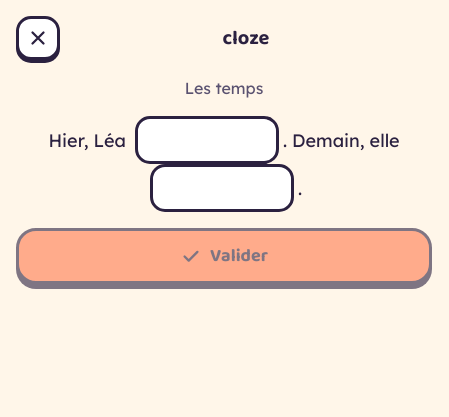
Scenario: GameScreen, cloze › shows the text with a field for each blank, in place, and sends the values once all are filled
The width and height of the screenshot is (449, 417).
Check: the text "Hier, Léa" is shown, box top-left (48, 128), bottom-right (131, 152)
Type "chantait" into the field named "Trou 1".
click(207, 140); type("chantait")  # box top-left (135, 116), bottom-right (279, 164)
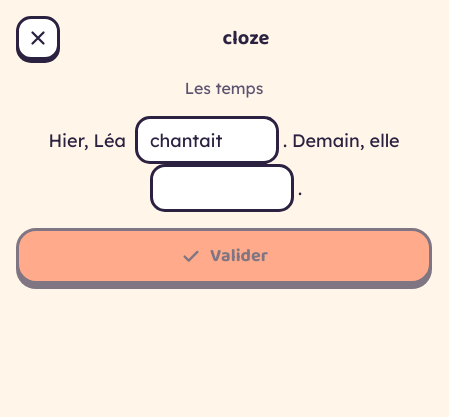
Check: the button "Valider" is disabled, box top-left (16, 228), bottom-right (432, 284)
Type "chantera" into the field named "Trou 2".
click(222, 188); type("chantera")  # box top-left (150, 164), bottom-right (294, 212)
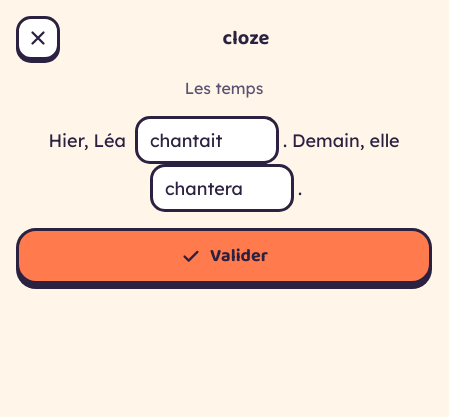
Click the button "Valider".
click(224, 256)  # box top-left (16, 228), bottom-right (432, 284)
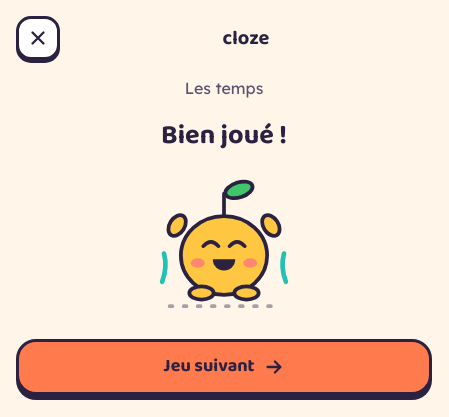
Check: the text "Bien joué !" is shown, box top-left (161, 116), bottom-right (287, 156)
